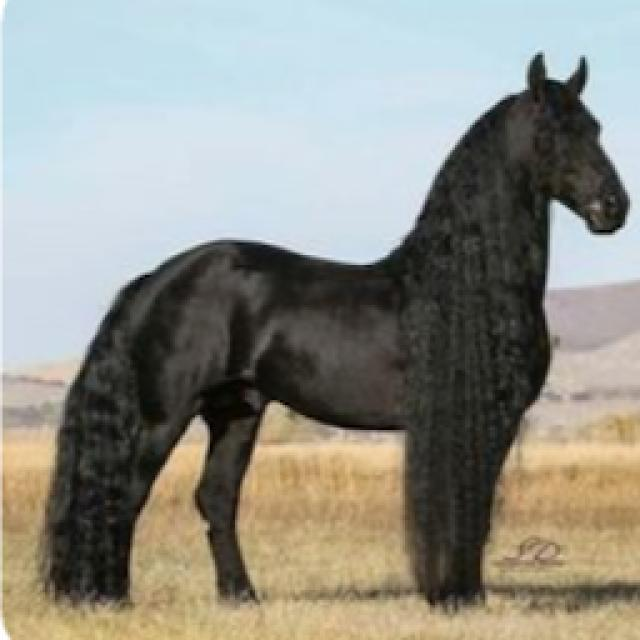Horse: (30, 45, 635, 618)
